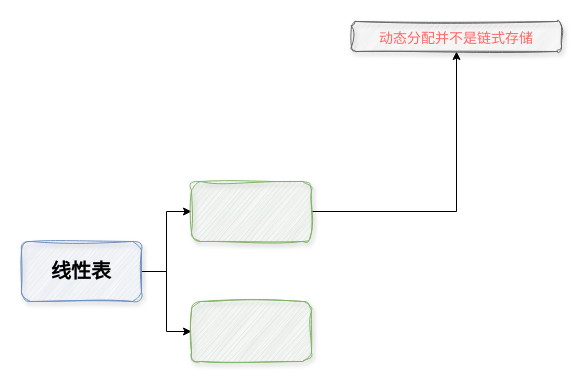
Image size: 585x386. Some labels were removed from this diagram. Each missing label, with the centre of its shape:
链式存储: [252,332]
顺序存储: [252,212]
